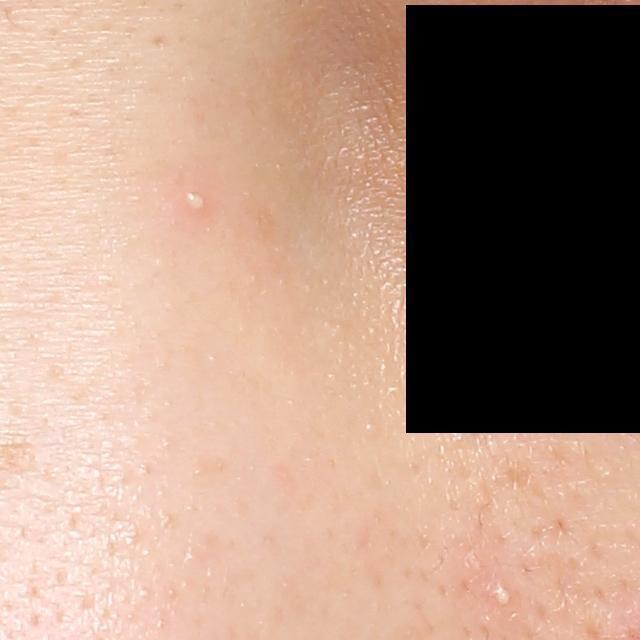pustule: (168, 179, 221, 220), (489, 580, 517, 608)
